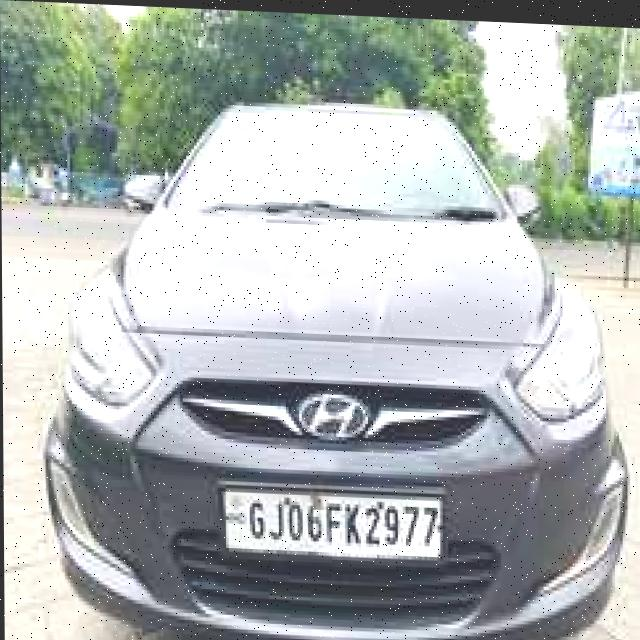plate: (221, 478, 446, 557)
